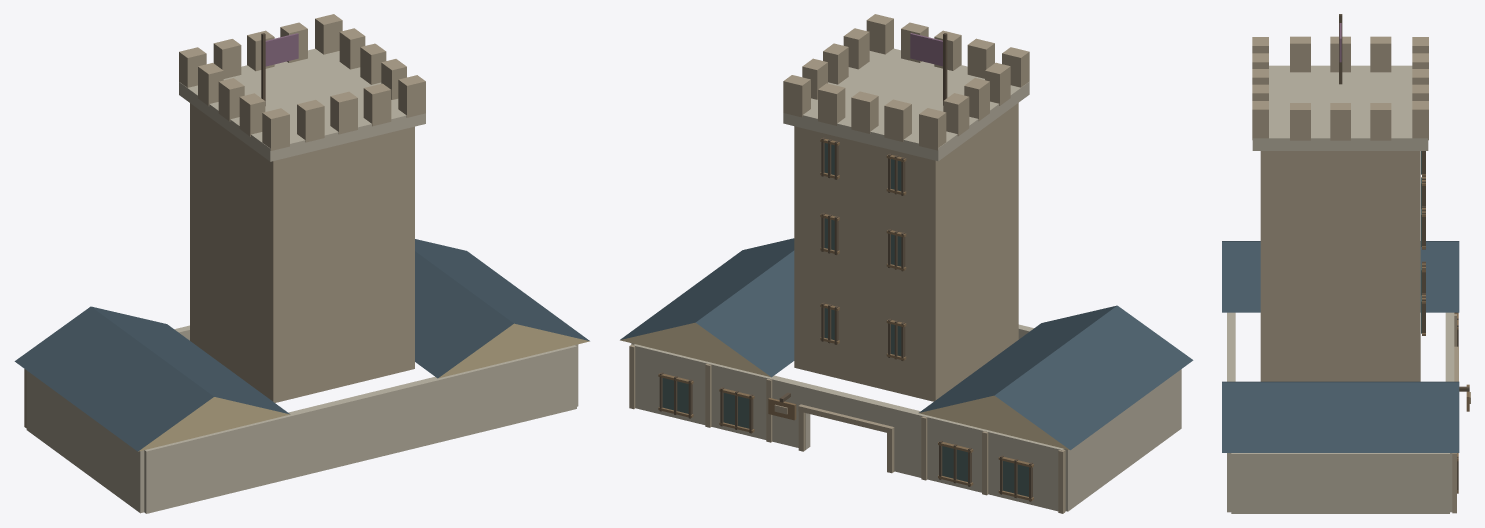
The model's file is TownEx_Watchtower_Cover.fbx.
The picture shows the model from 3 angles, left to right: view 1: azimuth 30°, elevation 25°; view 2: azimuth 150°, elevation 25°; view 3: azimuth 270°, elevation 25°; orthographic projection. The views are drawn at different scales.
Parts seen in each view (by area): view 1: TownEx_Watchtower_Cover; view 2: TownEx_Watchtower_Cover; view 3: TownEx_Watchtower_Cover.
Part boxes in pixels (box(x1,y1,x2,y2)): TownEx_Watchtower_Cover: box(14, 14, 589, 513); TownEx_Watchtower_Cover: box(620, 14, 1193, 513); TownEx_Watchtower_Cover: box(1222, 14, 1470, 513).
Bounding box in the file's own units: 16.3 × 13.56 × 8.08.
